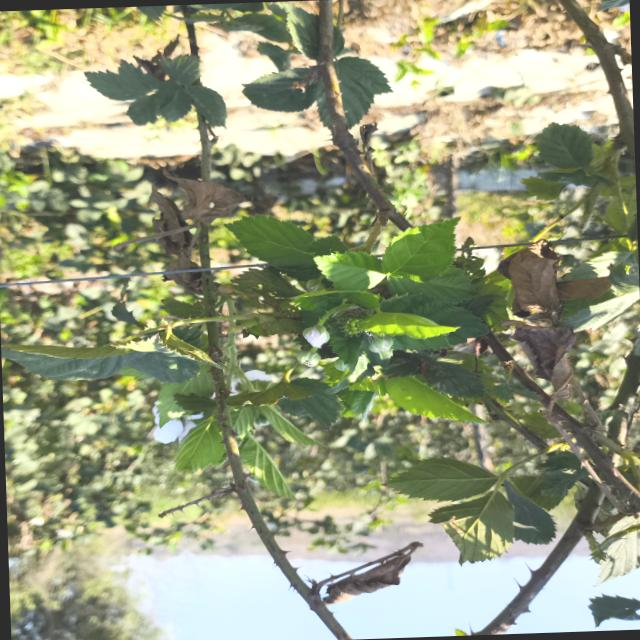boton: (303, 325, 329, 347), (296, 349, 320, 366), (369, 335, 393, 352), (334, 358, 349, 371)
